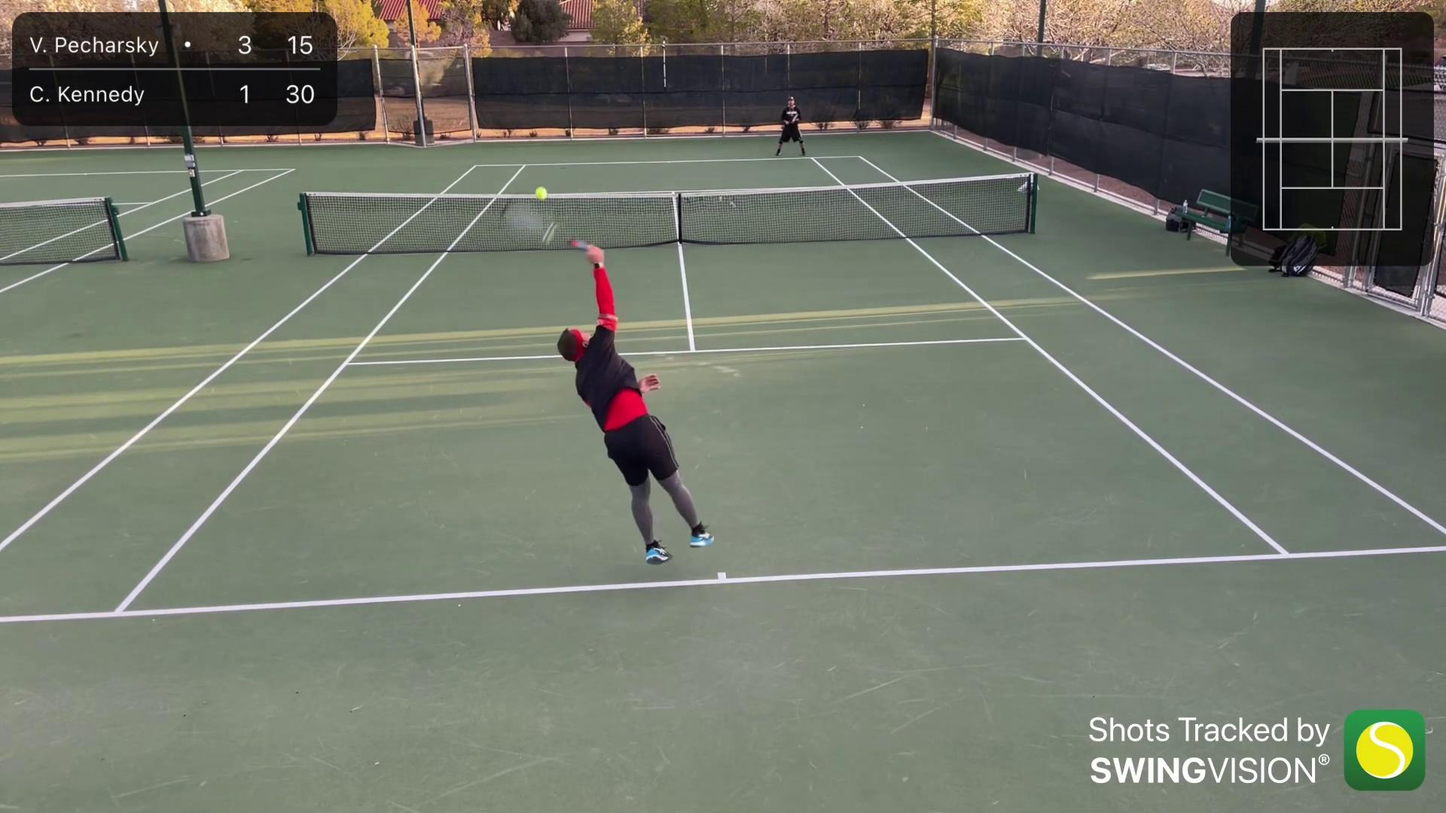ball: (533, 184, 550, 204)
